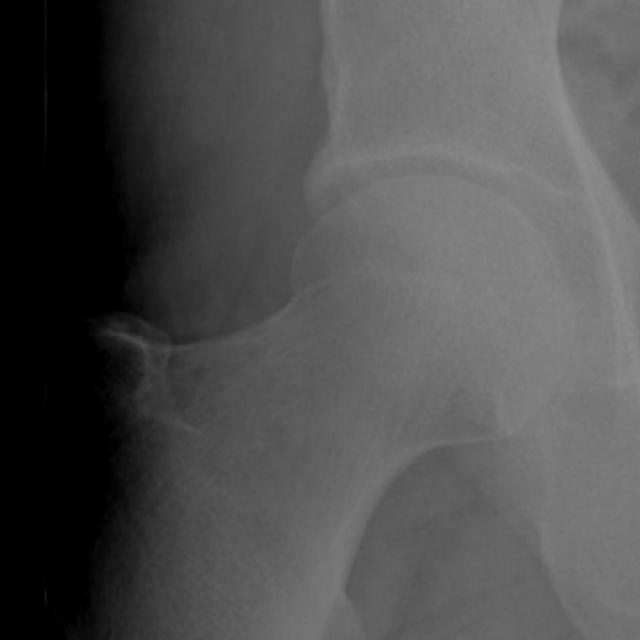Fitted_femural_head: (289, 171, 432, 289)
